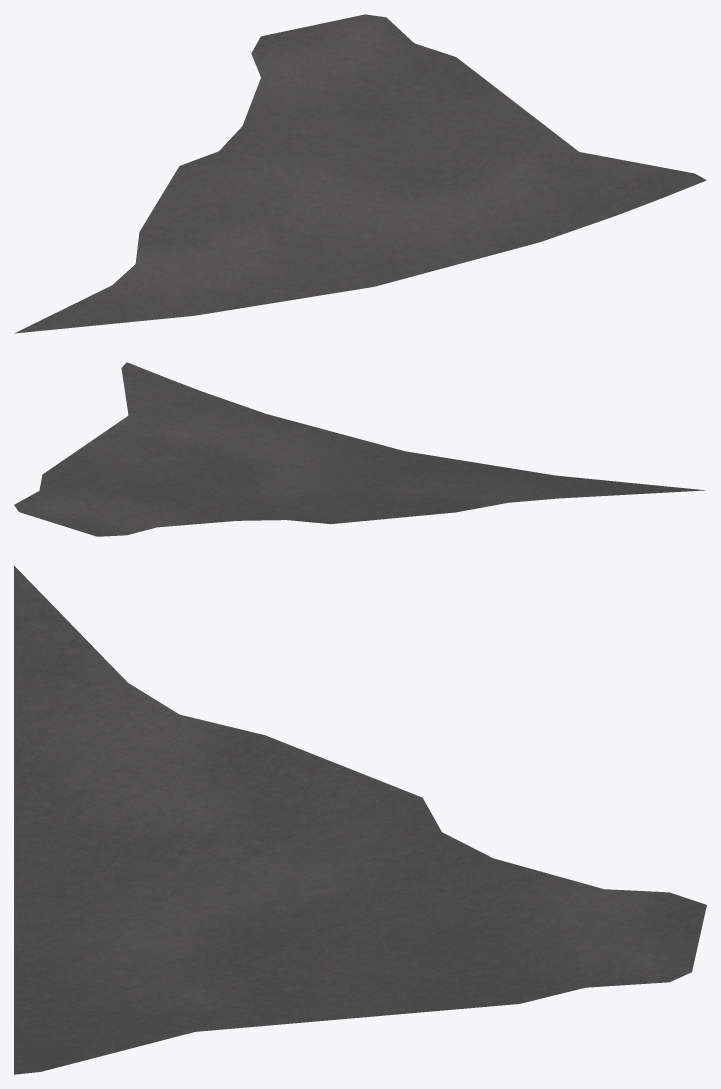
The model's file is road_06.gltf.
The picture shows the model from 3 angles, top to bottom: view 1: azimuth 30°, elevation 25°; view 2: azimuth 150°, elevation 25°; view 3: azimuth 270°, elevation 25°; orthographic projection. The views are drawn at different scales.
Visible parts, largest first — view 1: road_06.surface; view 2: road_06.surface; view 3: road_06.surface.
Part boxes in pixels (x1,y1,x2,y2): road_06.surface: [14, 14, 706, 333]; road_06.surface: [14, 362, 705, 536]; road_06.surface: [14, 565, 706, 1074].
Size of the model in its own units: 7.69 by 0.4742 by 4.63.
Materials: 1 (1 with a texture image).
